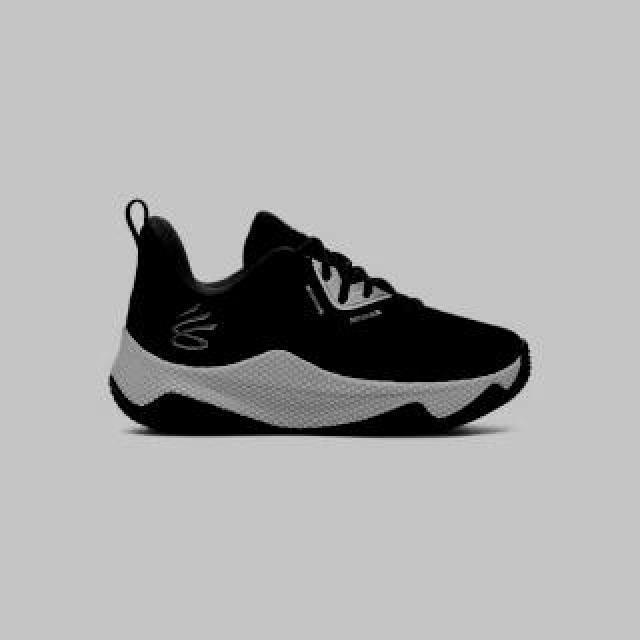shoes: (111, 205, 531, 437)
